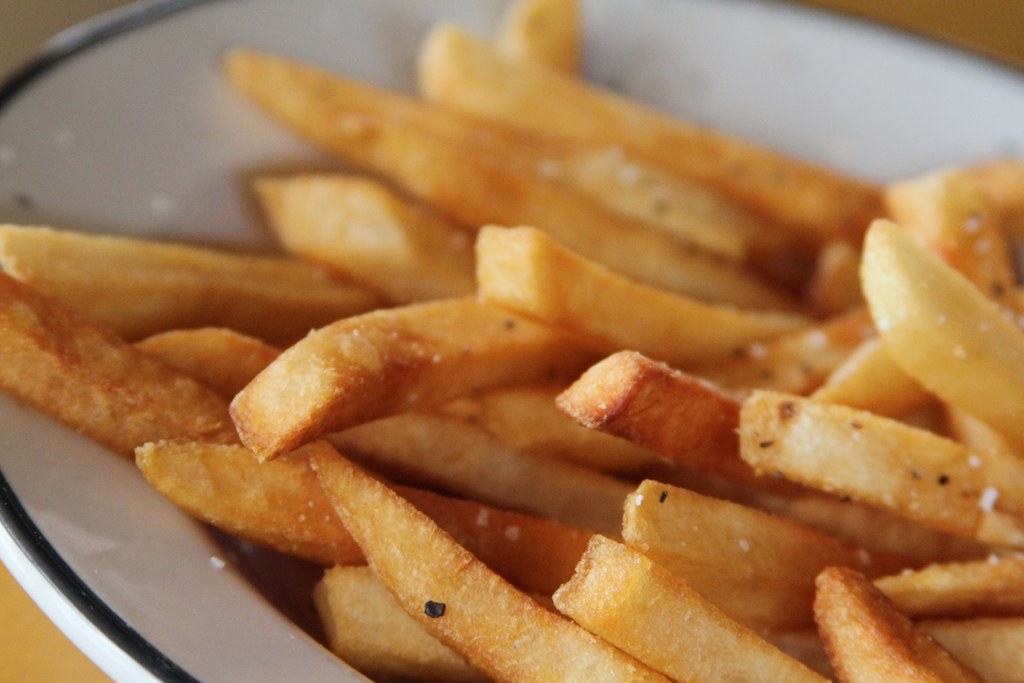French fries: (7, 13, 1022, 675)
